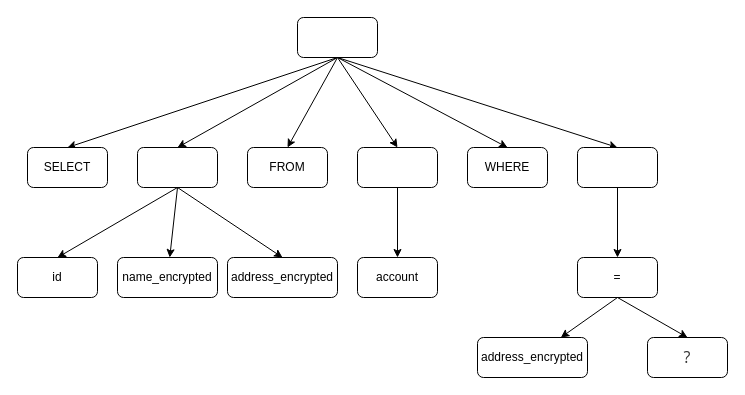
This 745x395 diagram has some shape labels left out. Here are the shapes that lost their labels. From the top down, the centre of each, then its label:
(x=337, y=37): Root
(x=177, y=167): FIELEDS
(x=397, y=167): TABLES
(x=617, y=167): CONDITIONS
